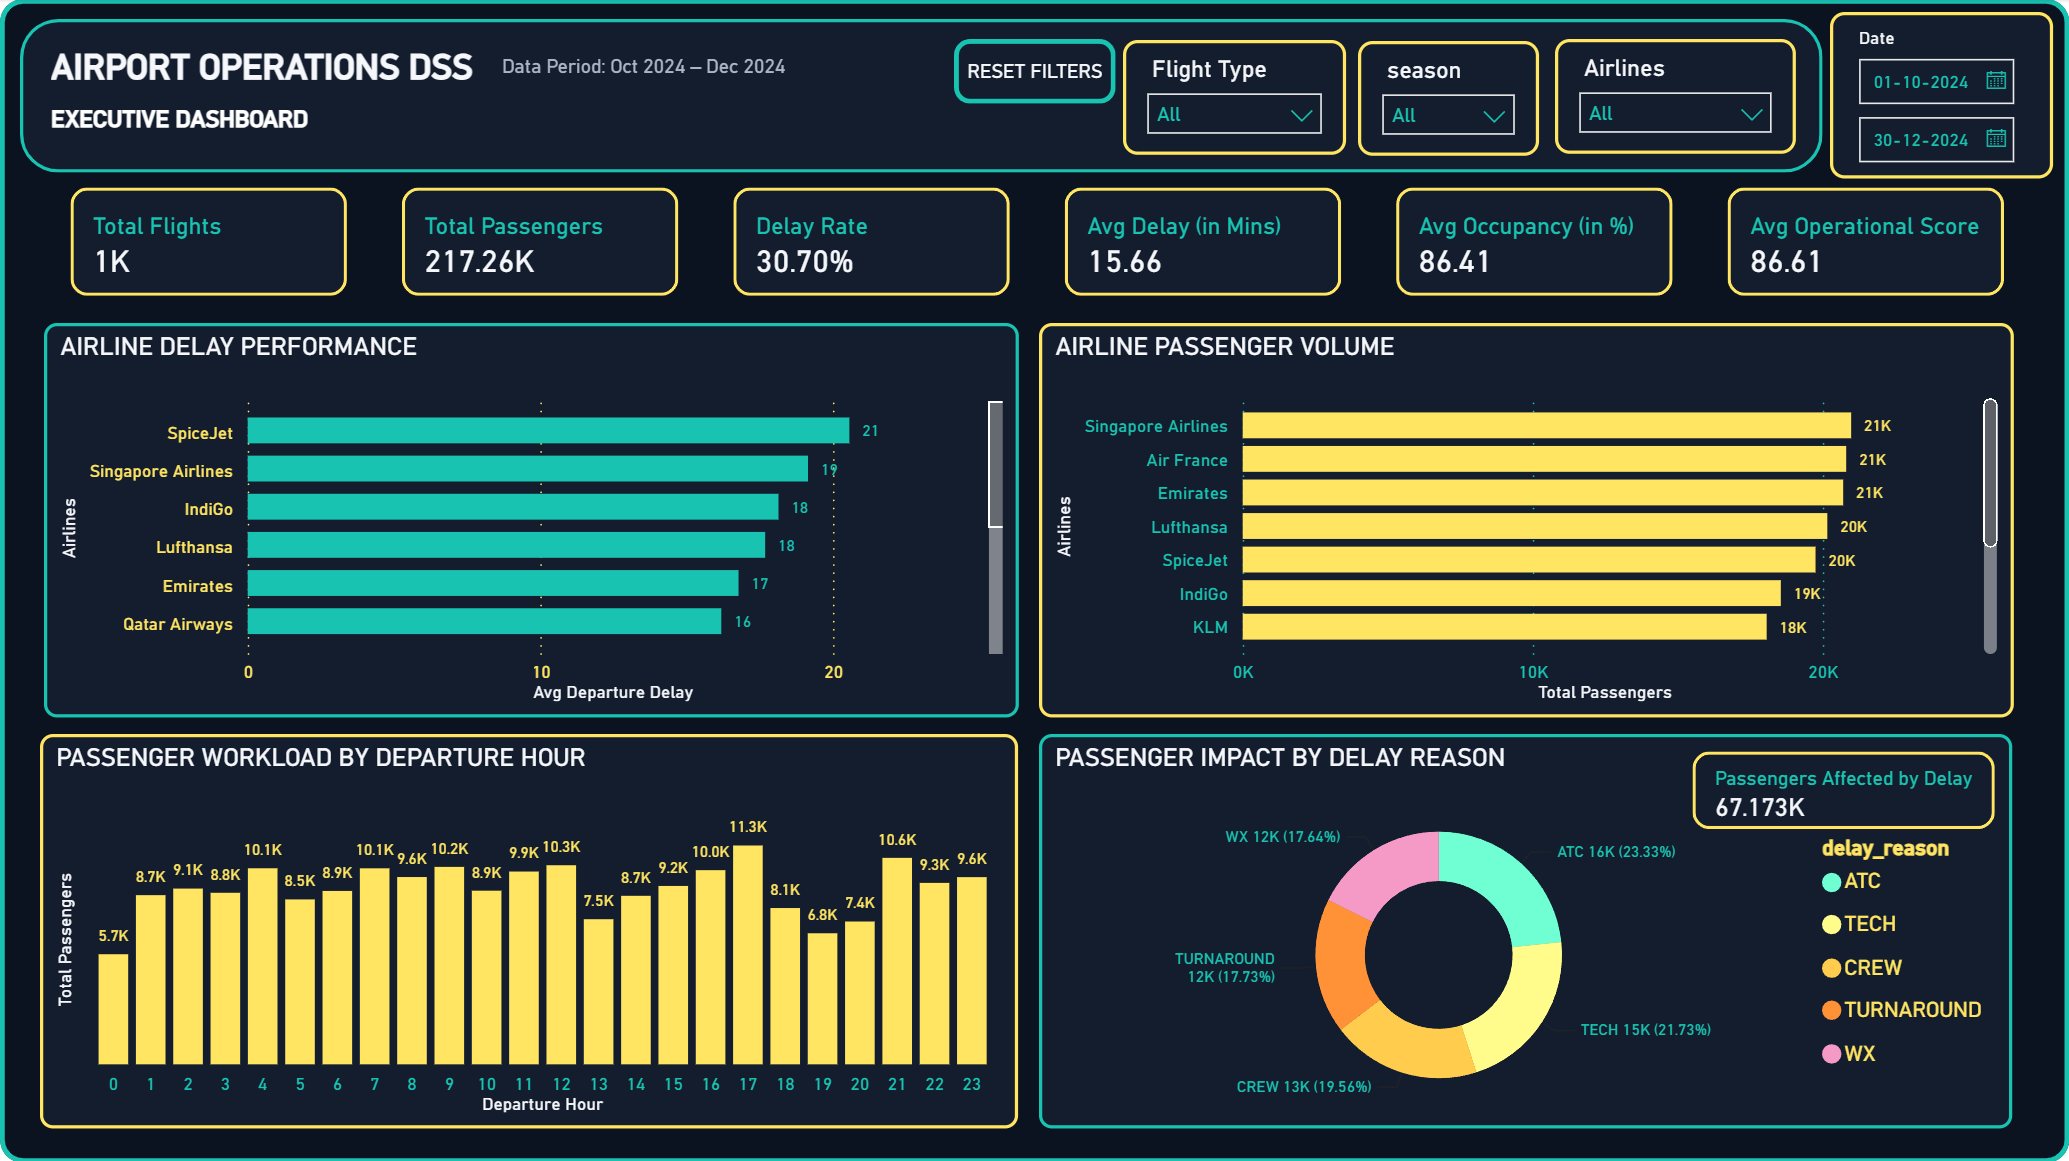

The page's visual inventory and layout, read from the dashboard file:
{"tool":"powerbi","page":{"name":"Executive Overview","canvas":[1280,720],"ordinal":0},"visuals":[{"type":"shape","box":[0,0,1280,720],"z":0},{"type":"shape","box":[12.5,12.5,1115,95],"z":1000},{"type":"textbox","box":[26.9,25,290.5,34.3],"z":2000},{"type":"textbox","box":[26.9,60,179.2,28.3],"z":3000},{"type":"textbox","box":[305.6,26.9,186.8,32.8],"z":4000},{"type":"cardVisual","fields":{"Data":["All Measures.Total Flights","All Measures.Total Passengers","All Measures.Delay Rate","All Measures.Avg Delay","All Measures.Avg Occupancy","All Measures.Avg Operational Score"]},"box":[26.9,99.4,1230.9,101.4],"z":5000},{"type":"clusteredBarChart","title":"AIRLINE DELAY PERFORMANCE","fields":{"Category":["flights.airline_name"],"Y":["All Measures.Avg Departure Delay"]},"box":[27.5,200.6,602.5,243.8],"z":6000},{"type":"clusteredBarChart","title":"AIRLINE PASSENGER VOLUME","fields":{"Category":["flights.airline_name"],"Y":["All Measures.Total Passengers"]},"box":[642.5,200.6,602.5,243.8],"z":7000},{"type":"clusteredColumnChart","title":"PASSENGER WORKLOAD BY DEPARTURE HOUR","fields":{"Category":["flights.Departure Hour"],"Y":["All Measures.Total Passengers"]},"box":[24.7,454.6,604.9,244.3],"z":8000},{"type":"donutChart","title":"PASSENGER IMPACT BY DELAY REASON","fields":{"Category":["flights.delay_reason"],"Y":["All_Measures.Passengers Affected by Delay"]},"box":[642.7,454.6,602.5,244.3],"z":9000},{"type":"cardVisual","fields":{"Data":["All_Measures.Passengers Affected by Delay"]},"box":[1029.9,448.5,221.4,82.9],"z":10000},{"type":"slicer","title":"DATE","fields":{"Values":["flights.scheduled_departure"]},"box":[1131.9,8.1,137.5,103.1],"z":11000},{"type":"slicer","title":"DATE","fields":{"Values":["flights.airline_name"]},"box":[961.9,25,149.4,70.6],"z":12000},{"type":"slicer","title":"DATE","fields":{"Values":["flights.season"]},"box":[840,26.2,111.9,70.6],"z":13000},{"type":"slicer","title":"DATE","fields":{"Values":["flights.International Status"]},"box":[694.4,25.6,138.1,70.6],"z":14000},{"type":"actionButton","box":[590,25,100,40],"z":14001}]}

Visuals, with their boxes in screenshot pixels (x1, y1, x2, y2), scaled from the page's 1280x720 canvas onto the 2069x1161 screenshot:
shape: select_region(0, 0, 2068, 1160)
shape: select_region(20, 20, 1822, 173)
textbox: select_region(43, 40, 513, 96)
textbox: select_region(43, 97, 333, 142)
textbox: select_region(494, 43, 796, 96)
cardVisual - All Measures.Total Flights x All Measures.Total Passengers: select_region(43, 160, 2033, 324)
"AIRLINE DELAY PERFORMANCE" clusteredBarChart: select_region(44, 323, 1018, 717)
"AIRLINE PASSENGER VOLUME" clusteredBarChart: select_region(1039, 323, 2012, 717)
"PASSENGER WORKLOAD BY DEPARTURE HOUR" clusteredColumnChart: select_region(40, 733, 1018, 1127)
"PASSENGER IMPACT BY DELAY REASON" donutChart: select_region(1039, 733, 2013, 1127)
cardVisual - All_Measures.Passengers Affected by Delay: select_region(1665, 723, 2023, 857)
"DATE" slicer: select_region(1830, 13, 2052, 179)
"DATE" slicer: select_region(1555, 40, 1796, 154)
"DATE" slicer: select_region(1358, 42, 1539, 156)
"DATE" slicer: select_region(1122, 41, 1346, 155)
actionButton: select_region(954, 40, 1115, 105)
